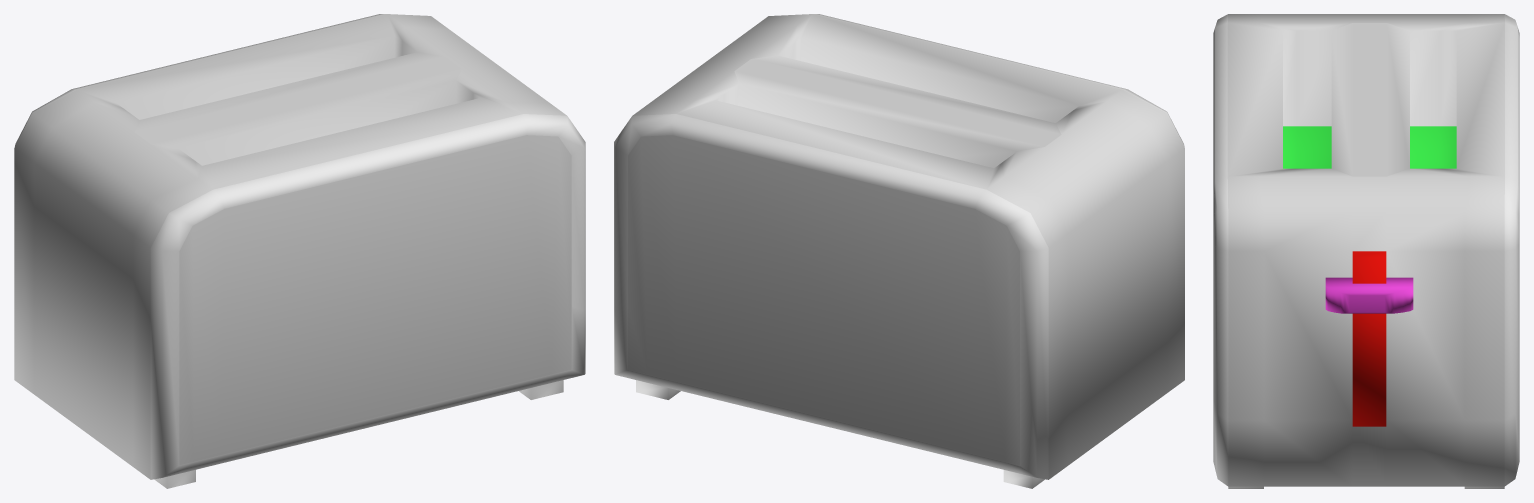
File: Toast.fbx
3 renders of one model, left to right at view 1: azimuth 30°, elevation 25°; view 2: azimuth 150°, elevation 25°; view 3: azimuth 270°, elevation 25°, orthographic.
Parts seen in each view (by area): view 1: Cube.024; view 2: Cube.024; view 3: Cube.024.
Part boxes in pixels (bbox=[...]): Cube.024: bbox=[14, 14, 585, 488]; Cube.024: bbox=[614, 14, 1184, 488]; Cube.024: bbox=[1213, 14, 1519, 488].
Bounding box in the file's own units: 77.72 × 46.37 × 44.07.
